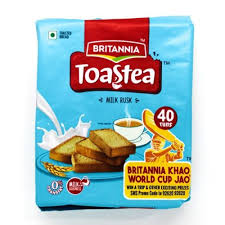Britania-toast-small: (36, 16, 194, 212)
